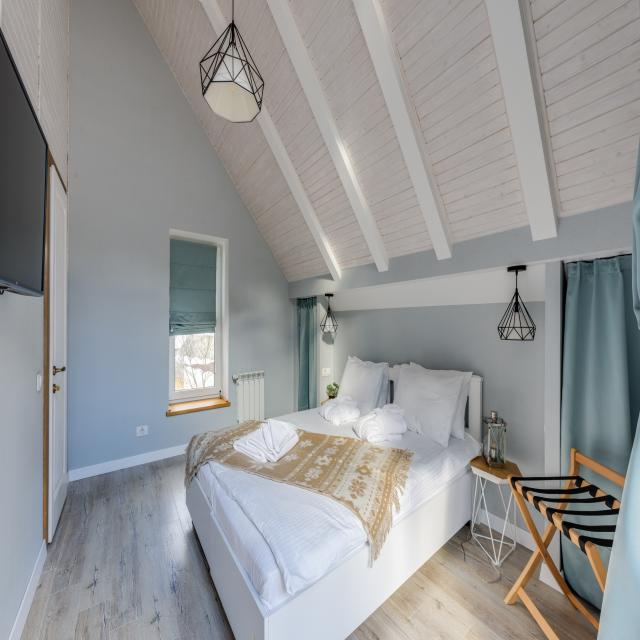floor: (20, 454, 236, 640), (344, 520, 550, 640), (524, 558, 598, 640), (476, 536, 496, 563), (473, 522, 491, 538), (499, 543, 512, 562), (493, 540, 501, 562), (490, 528, 503, 541), (503, 535, 514, 544)
wall: (67, 0, 294, 482), (333, 301, 545, 477), (288, 200, 633, 298), (0, 291, 48, 640), (329, 270, 516, 312), (545, 261, 560, 477), (320, 295, 336, 407), (517, 264, 545, 302), (316, 295, 320, 408), (519, 302, 533, 327), (502, 302, 515, 327), (499, 302, 512, 327), (518, 303, 528, 327), (506, 304, 515, 327), (507, 328, 522, 339), (509, 304, 515, 327), (320, 308, 328, 325), (330, 308, 337, 325), (527, 313, 535, 327), (514, 312, 521, 327), (521, 328, 530, 339), (322, 368, 332, 377), (514, 328, 522, 339), (523, 332, 533, 340), (506, 328, 513, 338), (503, 328, 508, 338), (323, 326, 329, 332), (518, 294, 522, 302), (330, 326, 335, 332), (325, 318, 329, 325), (329, 318, 333, 325), (325, 326, 329, 331), (329, 326, 333, 331), (501, 335, 506, 339), (321, 326, 324, 331), (334, 326, 337, 331), (513, 295, 515, 302), (499, 330, 501, 337), (498, 328, 501, 332), (529, 328, 533, 331), (329, 313, 331, 318), (531, 329, 533, 333), (534, 329, 535, 336), (502, 328, 505, 330), (327, 313, 328, 318), (532, 332, 533, 337), (502, 329, 503, 333), (534, 328, 535, 330)
